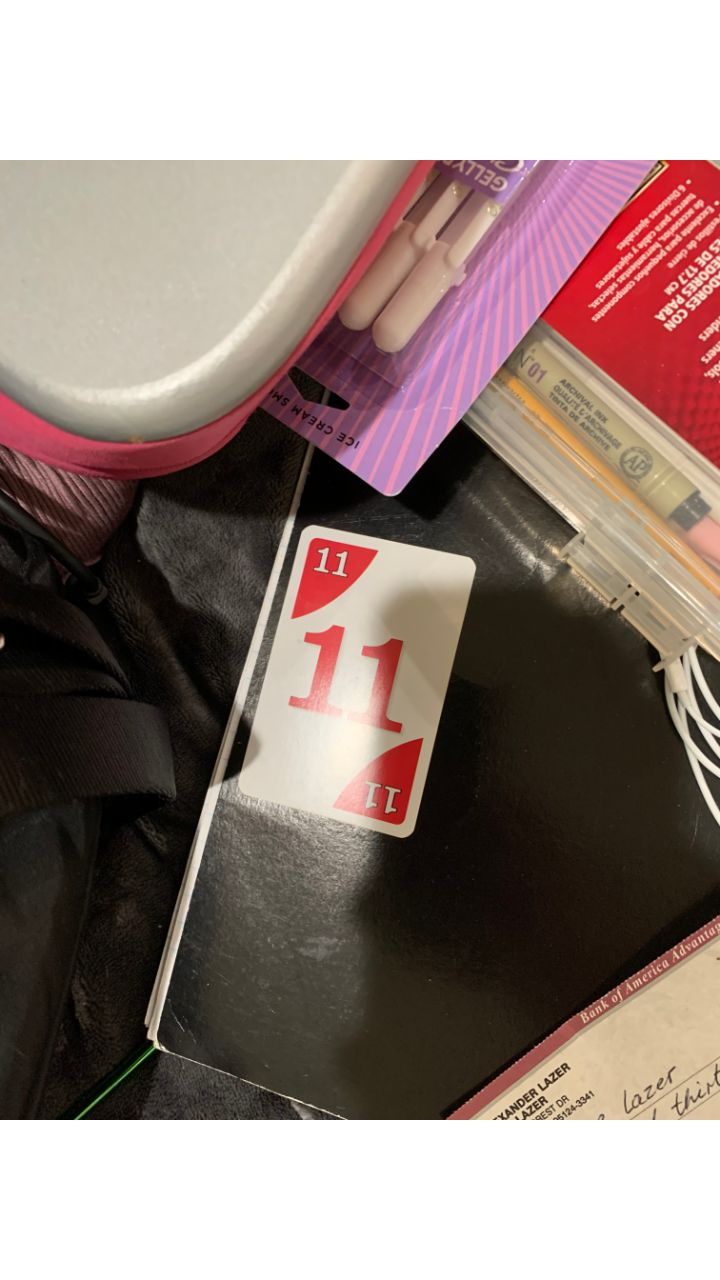eleven: (233, 526, 481, 842)
